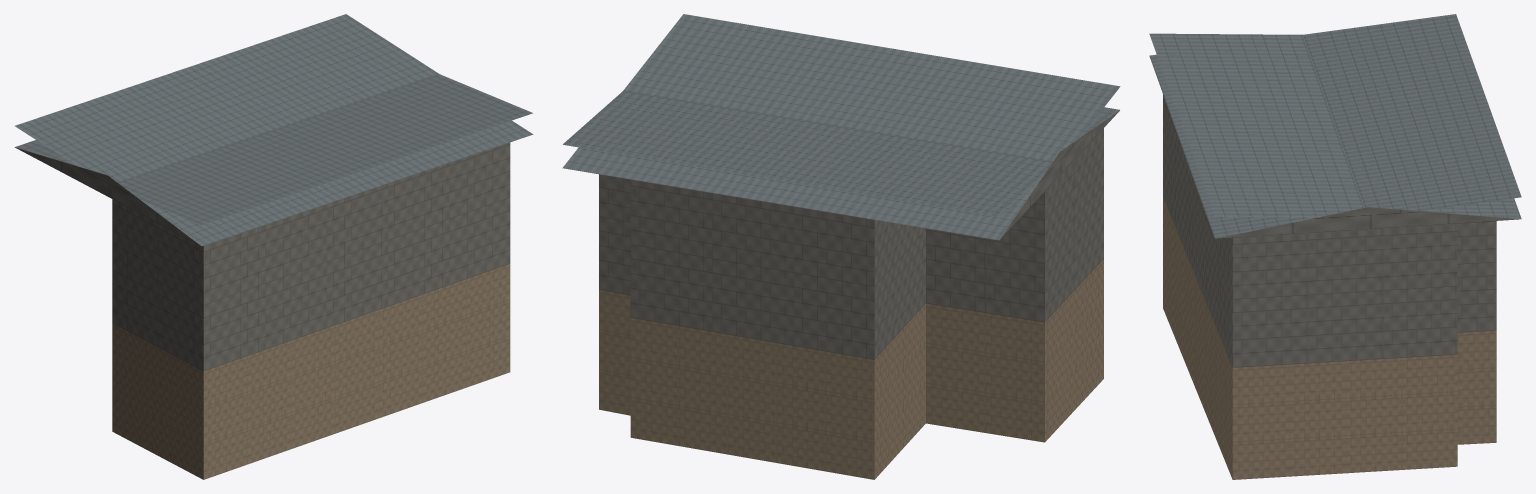
The model's file is bld_c14_25_394.gltf.
3 views of the same model, side by side, from view 1: azimuth 30°, elevation 25°; view 2: azimuth 150°, elevation 25°; view 3: azimuth 270°, elevation 25° (orthographic). The views are drawn at different scales.
Parts seen in each view (by area): view 1: bld_c14_25_394; view 2: bld_c14_25_394; view 3: bld_c14_25_394.
Boxes of the visible parts, box(x1,y1,x2,y2) form: bld_c14_25_394: box(14, 14, 533, 479); bld_c14_25_394: box(562, 14, 1120, 479); bld_c14_25_394: box(1149, 14, 1521, 479).
Bounding box in the file's own units: 19.79 × 12.3 × 15.35.
4 materials, 4 textured.
